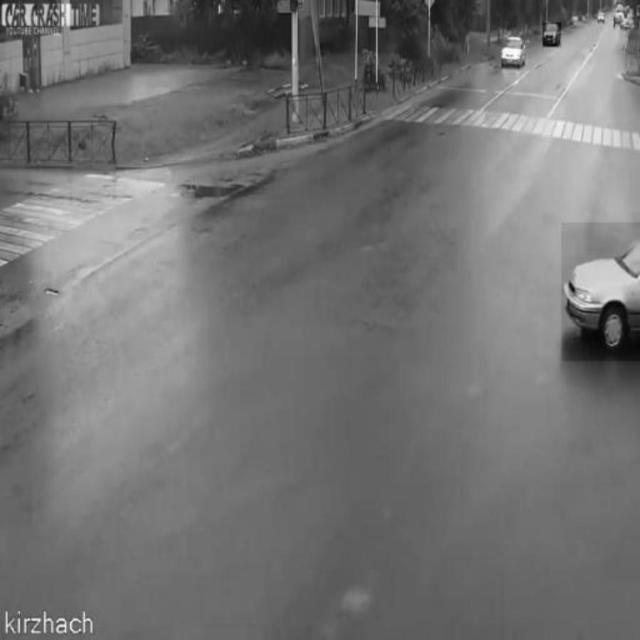vehicle: (562, 222, 640, 360), (502, 36, 529, 73), (543, 23, 561, 48)
